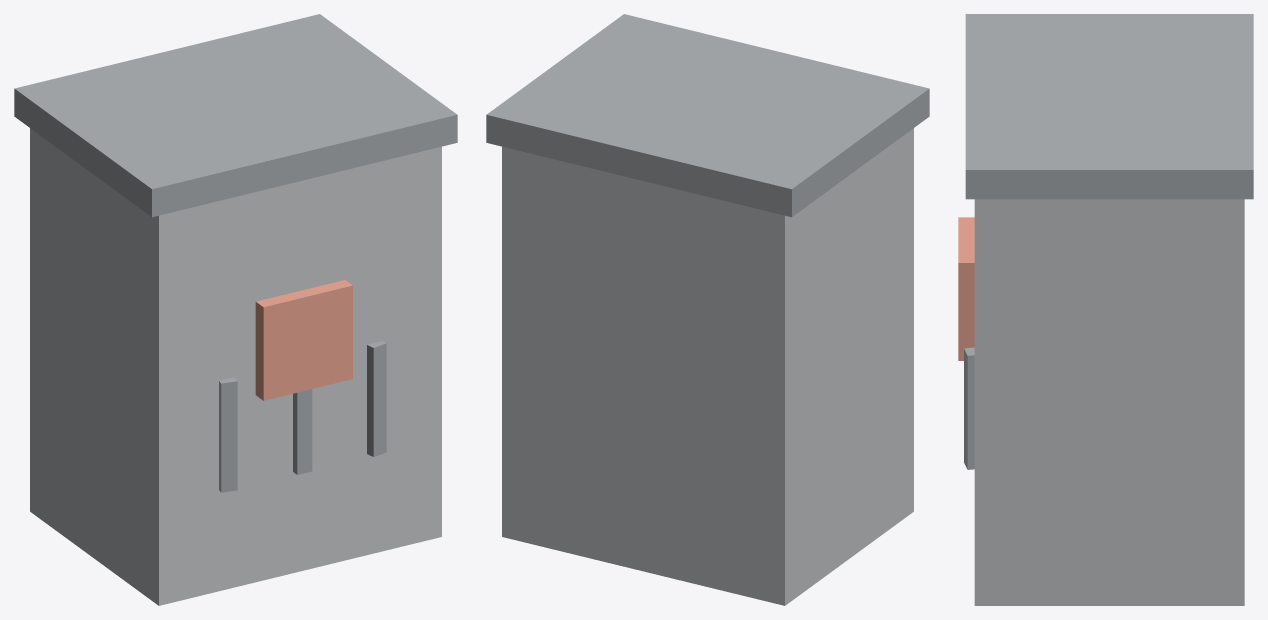
File: block_wall.glb
The picture shows the model from 3 angles, left to right: view 1: azimuth 30°, elevation 25°; view 2: azimuth 150°, elevation 25°; view 3: azimuth 270°, elevation 25°; orthographic projection. The views are drawn at different scales.
Parts seen in each view (by area): view 1: block_wall; view 2: block_wall; view 3: block_wall.
Part boxes in pixels (left/top/right/bottom): block_wall: left=14, top=14, right=457, bottom=605; block_wall: left=486, top=14, right=929, bottom=605; block_wall: left=958, top=14, right=1253, bottom=605.
Bounding box in the file's own units: 2.05 × 2.71 × 1.64.
